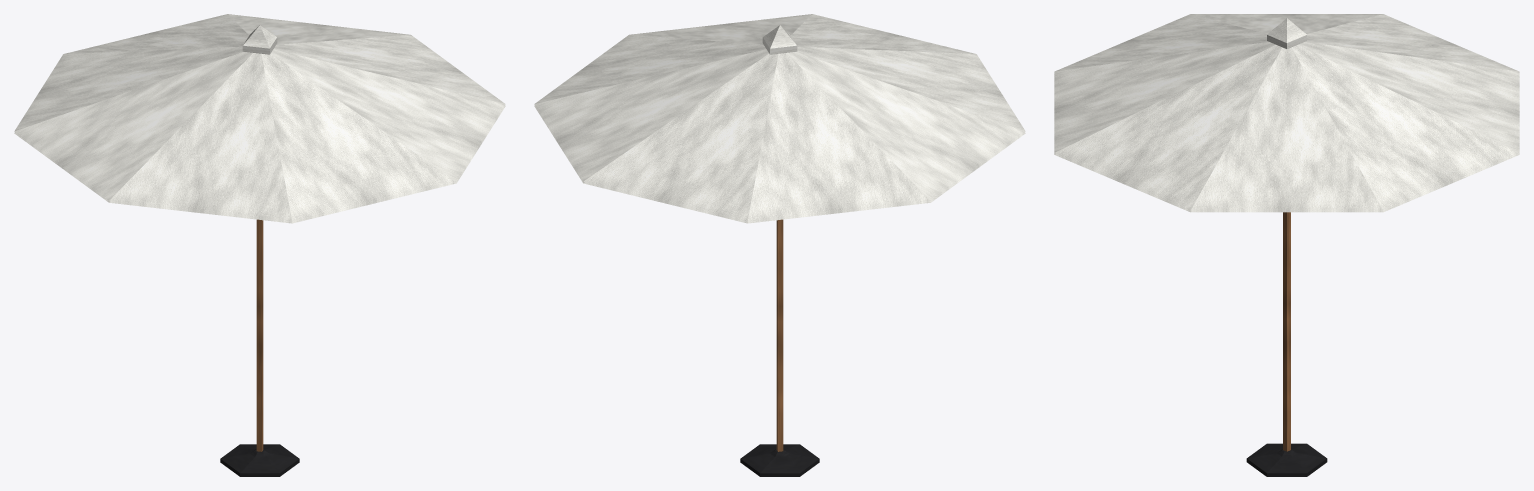
Rendered from SM_Molo_OmbrelloneLegno_LOD2.fbx.
3 renders of one model, left to right at view 1: azimuth 30°, elevation 25°; view 2: azimuth 150°, elevation 25°; view 3: azimuth 270°, elevation 25°, orthographic.
Visible parts, largest first — view 1: SM_Molo_OmbrelloneLegno_LOD2; view 2: SM_Molo_OmbrelloneLegno_LOD2; view 3: SM_Molo_OmbrelloneLegno_LOD2.
Part boxes in pixels (x1,y1,x2,y2): SM_Molo_OmbrelloneLegno_LOD2: [14, 14, 505, 476]; SM_Molo_OmbrelloneLegno_LOD2: [534, 14, 1025, 476]; SM_Molo_OmbrelloneLegno_LOD2: [1054, 14, 1519, 476].
Bounding box in the file's own units: 277 × 277 × 292.
Materials: 2 (2 with a texture image).
